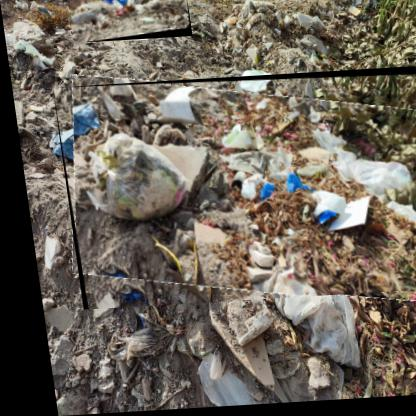Garbage: (51, 72, 416, 313), (68, 1, 193, 46)
